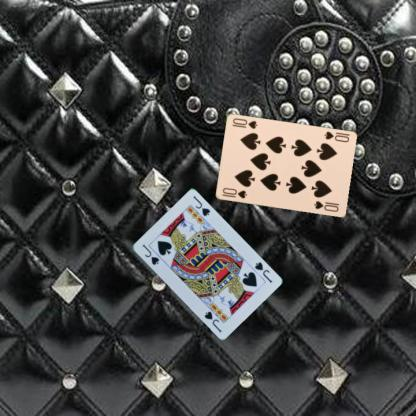10s: (219, 185, 248, 200), (321, 129, 350, 143)
Js: (139, 242, 160, 266), (252, 260, 273, 284)
